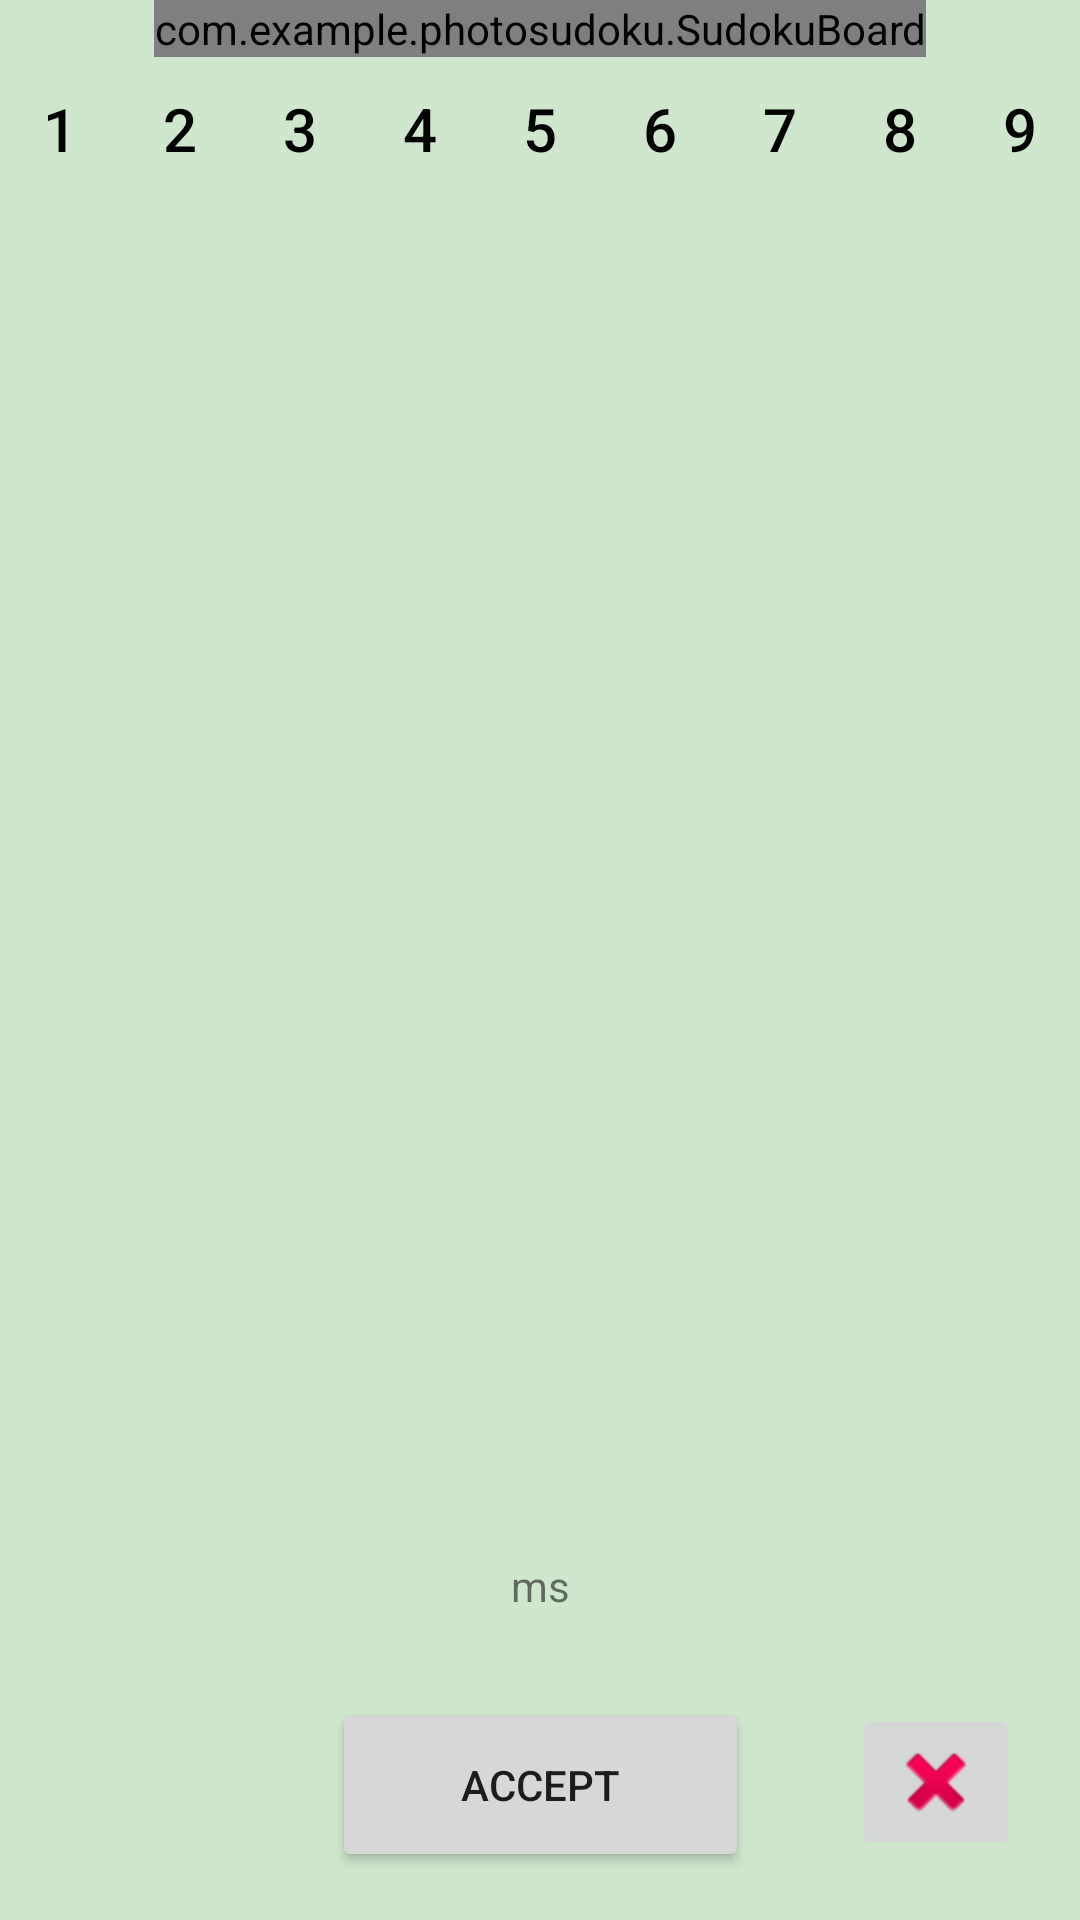

Where icons sit on this 1080*1920 app screen, as [left=x1, top=y1, right=x2, bottom=y2]:
delete: [left=905, top=1753, right=967, bottom=1812]
